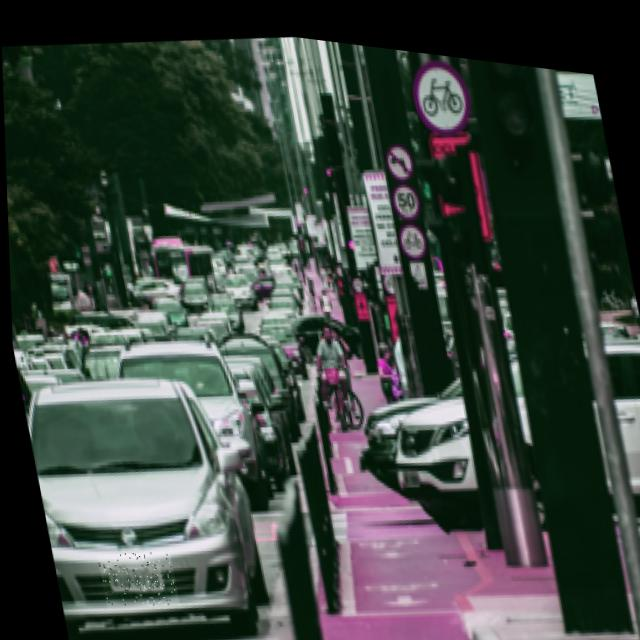license_plate: (93, 541, 176, 613)
